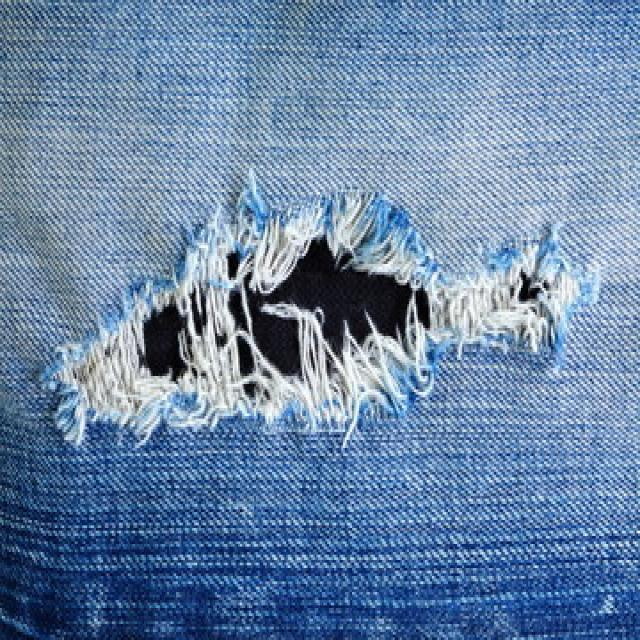Hole: (46, 175, 600, 446)
